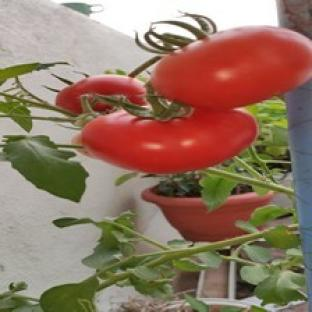Tomato: (151, 27, 311, 110), (81, 111, 257, 174), (56, 74, 144, 114), (72, 133, 91, 157)
